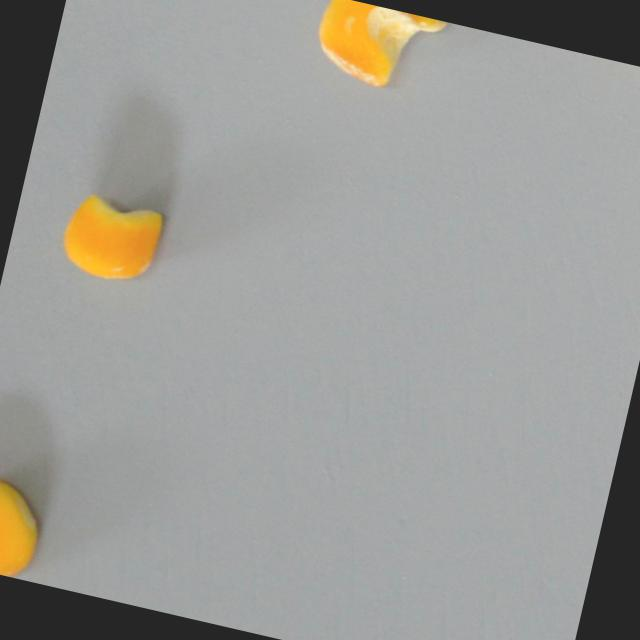dañado: (298, 0, 453, 109), (47, 179, 173, 291), (0, 468, 59, 583)
